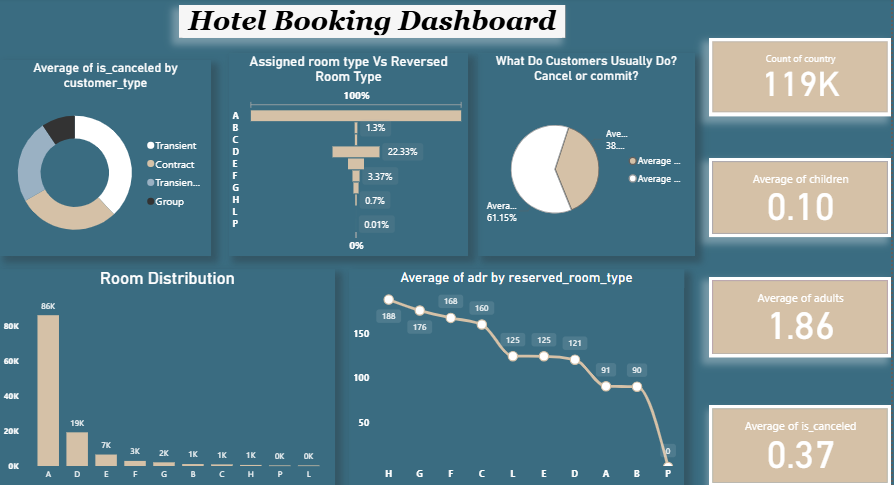

This screenshot's page, from the dashboard's own definition file:
{"tool":"powerbi","page":{"name":"Page 1","canvas":[1280,720],"ordinal":0},"visuals":[{"type":"columnChart","title":"Room Distribution","fields":{"Category":["Hotel Bookings - Hotel Bookings.reserved_room_type"],"Y":["CountNonNull(Hotel Bookings - Hotel Bookings.reserved_room_type)"]},"box":[7.1,397.1,478.6,311.4],"z":0},{"type":"lineChart","fields":{"Y":["Avg(Hotel Bookings - Hotel Bookings.adr)"],"Category":["Hotel Bookings - Hotel Bookings.reserved_room_type"]},"box":[505.7,397.1,478.6,311.4],"z":1000},{"type":"funnel","title":"Assigned room type Vs Reversed Room Type","fields":{"Category":["Hotel Bookings - Hotel Bookings.reserved_room_type","Hotel Bookings - Hotel Bookings.assigned_room_type"],"Y":["CountNonNull(Hotel Bookings - Hotel Bookings.reservation_status_date)"]},"box":[335,88.3,341.7,290],"z":2000},{"type":"pieChart","title":"What Do Customers Usually Do? Cancel or commit?","fields":{"Y":["Avg(Hotel Bookings - Hotel Bookings.previous_cancellations)","Avg(Hotel Bookings - Hotel Bookings.previous_bookings_not_canceled)"]},"box":[690,88.3,310,290],"z":3000},{"type":"cardVisual","fields":{"Data":["Avg(Hotel Bookings - Hotel Bookings.is_canceled)"]},"box":[1020,591.7,260,116.7],"z":4000},{"type":"cardVisual","fields":{"Data":["Avg(Hotel Bookings - Hotel Bookings.adults)"]},"box":[1020,408.3,260,115],"z":5000},{"type":"cardVisual","fields":{"Data":["Avg(Hotel Bookings - Hotel Bookings.children)"]},"box":[1020,238.3,260,113.3],"z":6000},{"type":"cardVisual","fields":{"Data":["CountNonNull(Hotel Bookings - Hotel Bookings.country)"]},"box":[1020,66.7,260,111.7],"z":9000},{"type":"textbox","title":"Hotel Booking Dashboard","box":[263.3,20,551.7,46.7],"z":10000},{"type":"donutChart","fields":{"Category":["Hotel Bookings - Hotel Bookings.customer_type"],"Y":["Avg(Hotel Bookings - Hotel Bookings.is_canceled)"]},"box":[6.7,98.3,301.7,280],"z":10001}]}

Visuals, with their boxes on the page's 1280x720 design canvas (x1, y1, x2, y2). These are canvas units, not pixel positions in the 894x485 screenshot, which may show the page scaled, cropped or inside an application window:
"Room Distribution" columnChart: region(7, 397, 486, 708)
lineChart - Avg(Hotel Bookings - Hotel Bookings.adr) x Hotel Bookings - Hotel Bookings.reserved_room_type: region(506, 397, 984, 708)
"Assigned room type Vs Reversed Room Type" funnel: region(335, 88, 677, 378)
"What Do Customers Usually Do? Cancel or commit?" pieChart: region(690, 88, 1000, 378)
cardVisual - Avg(Hotel Bookings - Hotel Bookings.is_canceled): region(1020, 592, 1280, 708)
cardVisual - Avg(Hotel Bookings - Hotel Bookings.adults): region(1020, 408, 1280, 523)
cardVisual - Avg(Hotel Bookings - Hotel Bookings.children): region(1020, 238, 1280, 352)
cardVisual - CountNonNull(Hotel Bookings - Hotel Bookings.country): region(1020, 67, 1280, 178)
"Hotel Booking Dashboard" textbox: region(263, 20, 815, 67)
donutChart - Hotel Bookings - Hotel Bookings.customer_type x Avg(Hotel Bookings - Hotel Bookings.is_canceled): region(7, 98, 308, 378)
